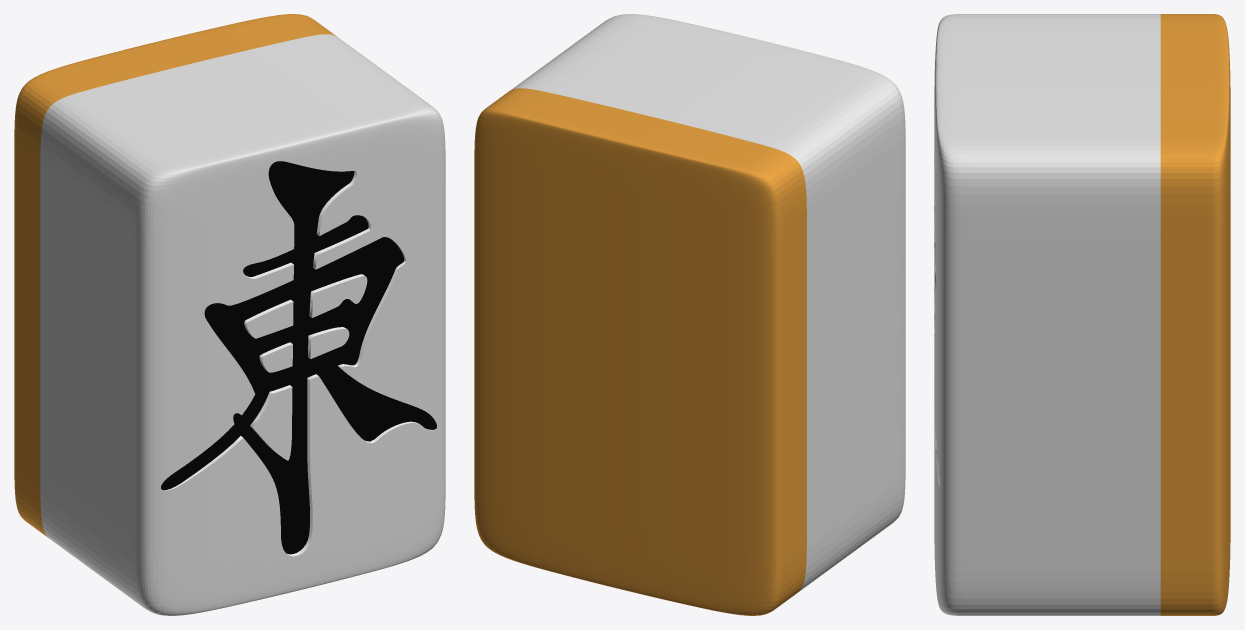
Rendered from Ton.fbx.
3 renders of one model, left to right at view 1: azimuth 30°, elevation 25°; view 2: azimuth 150°, elevation 25°; view 3: azimuth 270°, elevation 25°, orthographic. The views are drawn at different scales.
Visible parts, largest first — view 1: Tile; view 2: Tile; view 3: Tile.
Boxes of the visible parts, x1=… form: Tile: x1=14, y1=14, x2=445, y2=615; Tile: x1=474, y1=14, x2=905, y2=615; Tile: x1=934, y1=14, x2=1230, y2=615.
Bounding box in the file's own units: 2 × 2.8 × 1.59.
